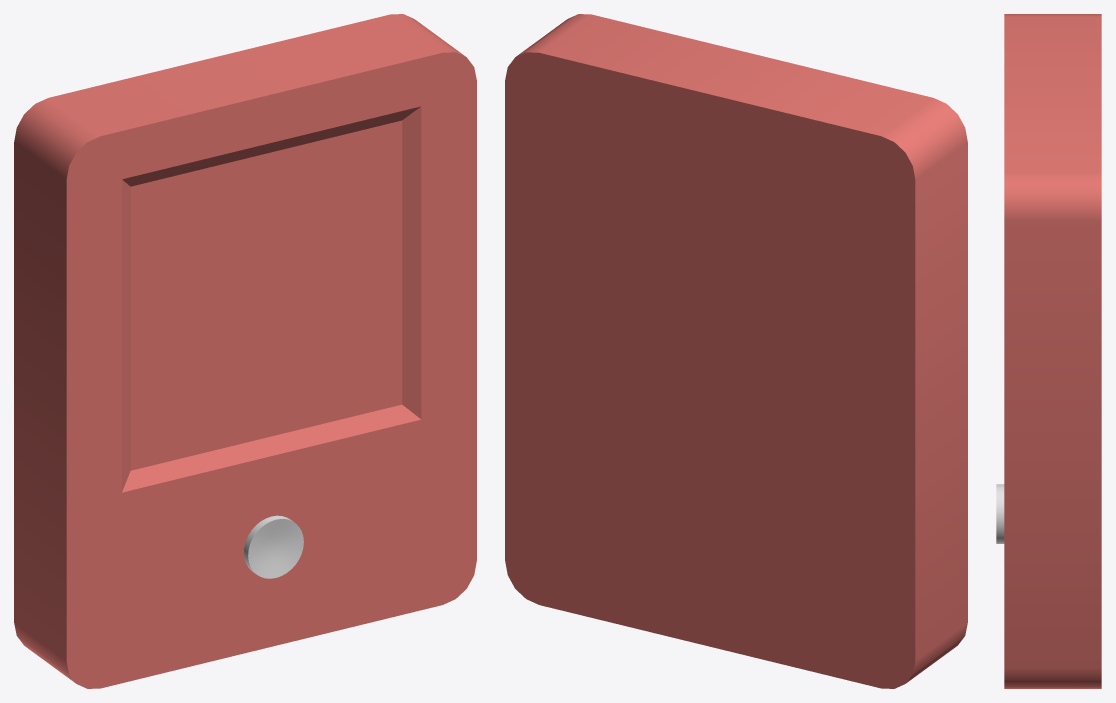
File: case-transformed.glb
3 renders of one model, left to right at view 1: azimuth 30°, elevation 25°; view 2: azimuth 150°, elevation 25°; view 3: azimuth 270°, elevation 25°, orthographic. The views are drawn at different scales.
Visible parts, largest first — view 1: Case.003, Button; view 2: Case.003; view 3: Case.003, Button.
Boxes of the visible parts, x1,y1,x2,y2 form: Case.003: (14, 14, 476, 688); Button: (243, 515, 303, 578); Case.003: (505, 14, 967, 688); Case.003: (1004, 14, 1101, 688); Button: (996, 484, 1004, 543).
Bounding box in the file's own units: 9.05 × 11.64 × 2.17.
